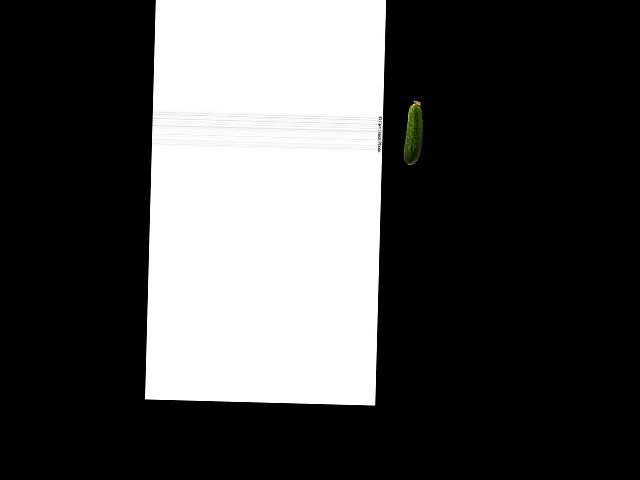cucumber: (403, 100, 423, 165)
